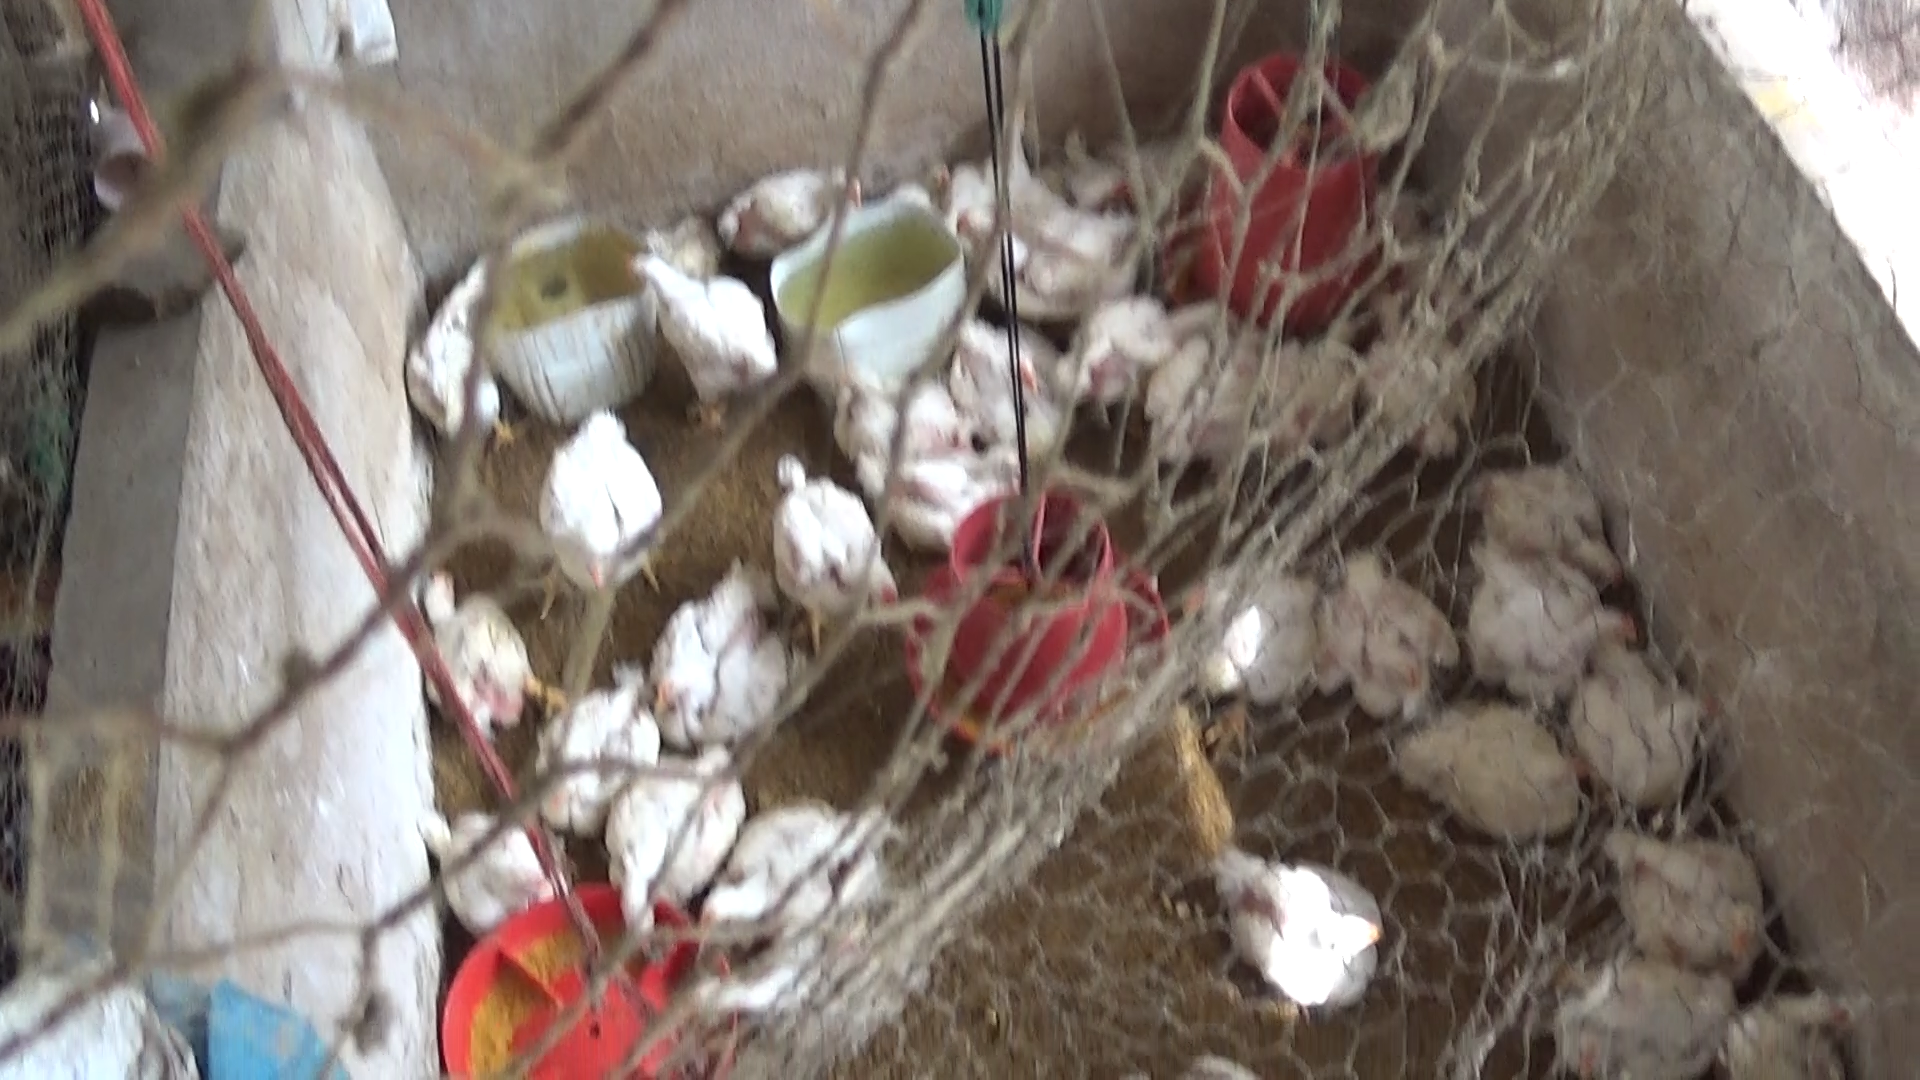Pollos: (1594, 808, 1782, 975), (603, 727, 732, 957), (394, 551, 566, 721), (1218, 828, 1386, 1002), (612, 248, 777, 419), (1375, 703, 1592, 833), (1545, 943, 1735, 1080), (1472, 545, 1622, 717), (535, 400, 657, 612), (1572, 642, 1720, 814), (754, 477, 909, 632), (1323, 541, 1452, 717), (666, 568, 789, 738), (833, 359, 978, 487), (400, 800, 566, 911), (542, 678, 657, 832), (716, 148, 872, 258), (947, 309, 1060, 440), (1733, 975, 1869, 1080)
